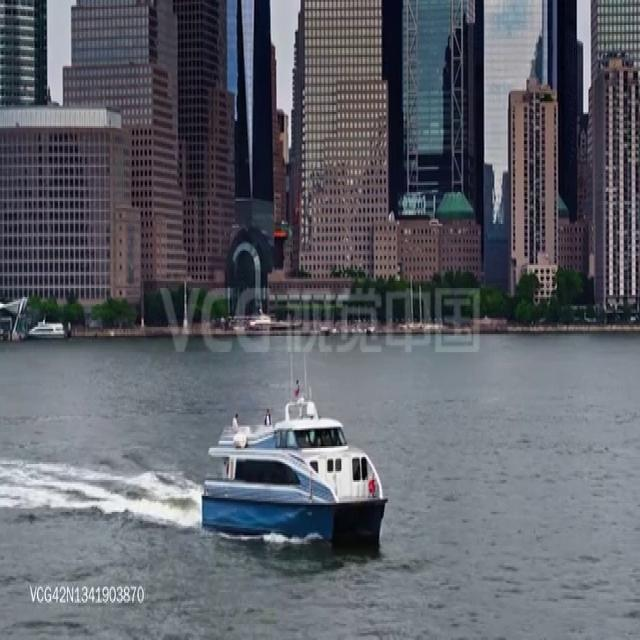houseboat: (201, 384, 387, 542), (28, 317, 64, 341)
